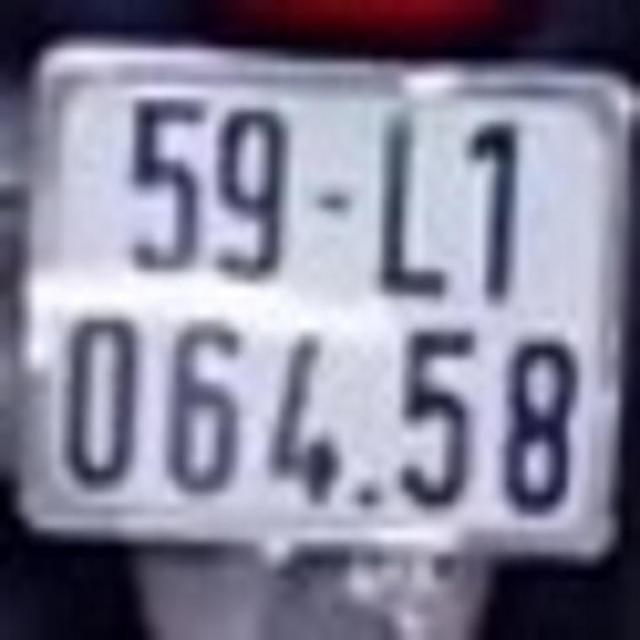0: (66, 303, 136, 488)
1: (462, 98, 522, 305)
4: (269, 320, 341, 513)
5: (126, 85, 207, 278), (402, 323, 476, 514)
6: (165, 304, 243, 499)
8: (509, 327, 574, 515)
9: (214, 95, 285, 284)
L: (376, 102, 448, 310)
